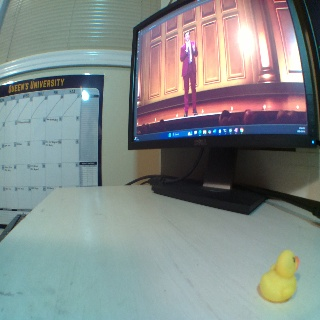duck_regular: (258, 247, 300, 303)
